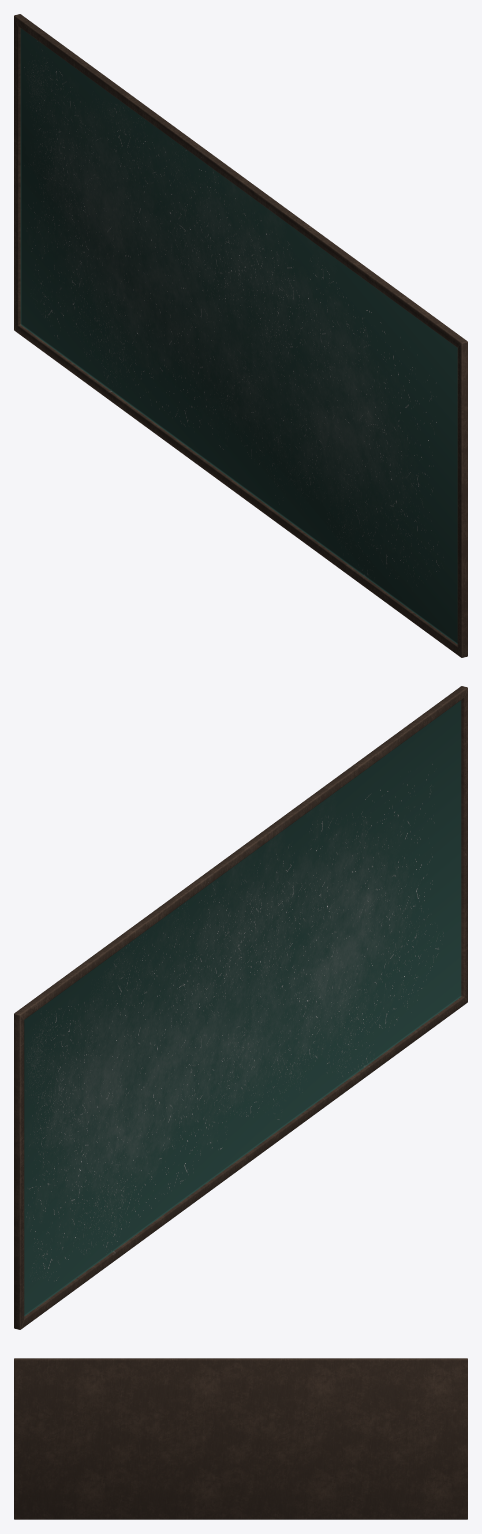
The model's file is board.fbx.
The picture shows the model from 3 angles, top to bottom: view 1: azimuth 30°, elevation 25°; view 2: azimuth 150°, elevation 25°; view 3: azimuth 270°, elevation 25°; orthographic projection. The views are drawn at different scales.
Parts seen in each view (by area): view 1: board; view 2: board; view 3: board.
Boxes of the visible parts, x1=… form: board: x1=14, y1=14, x2=467, y2=657; board: x1=14, y1=686, x2=467, y2=1329; board: x1=14, y1=1358, x2=467, y2=1519.
Size of the model in its own units: 2.28 by 100 by 257.
